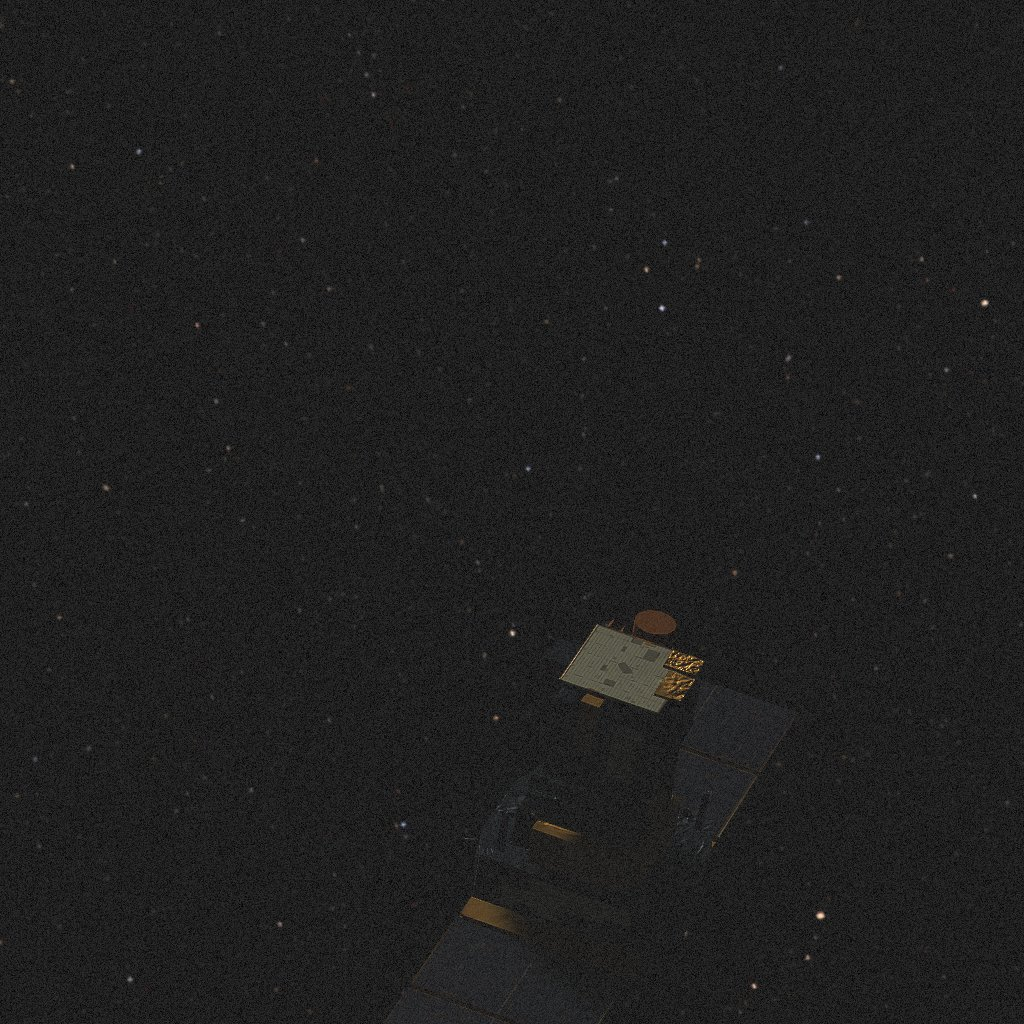soho: (383, 610, 798, 1024)
